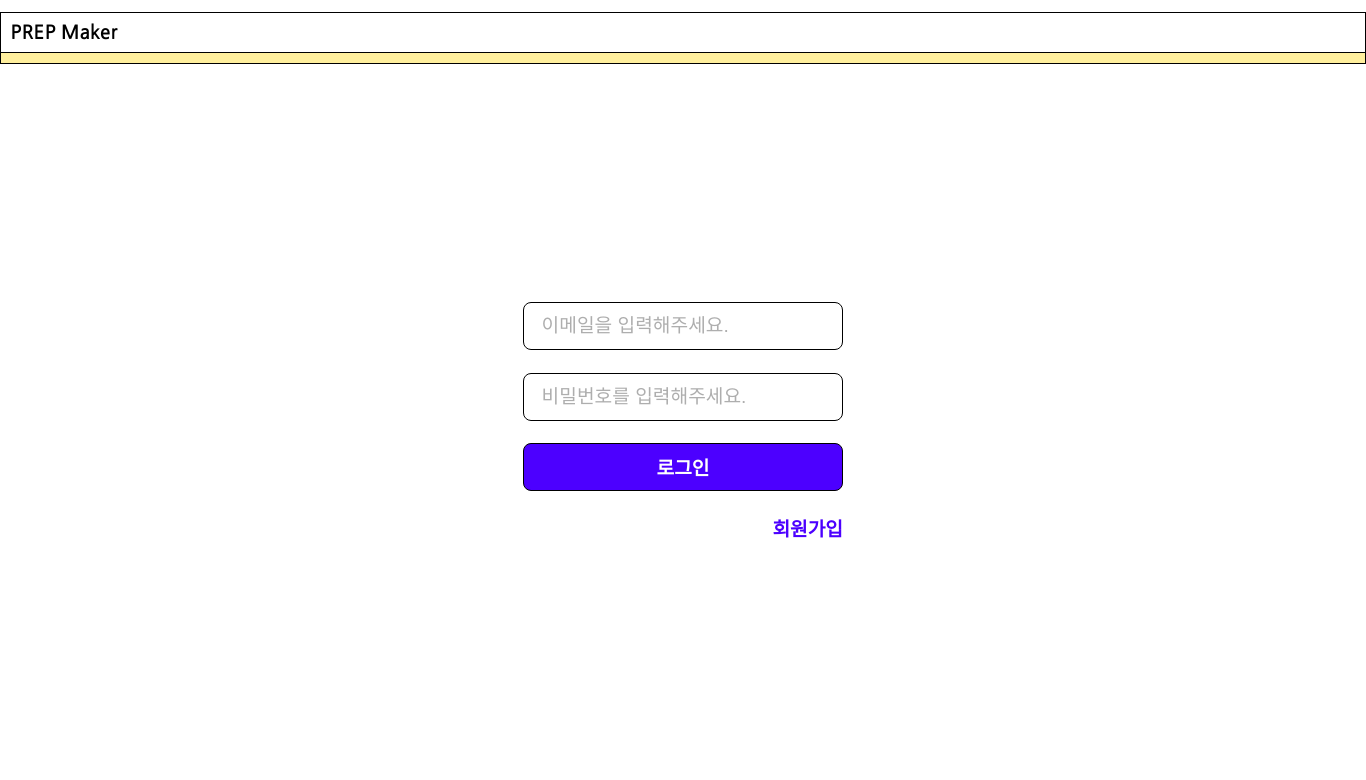
Test: App › Writing Page › 글 제목을 클릭했을 때 › 블록 에디터를 보여준다
In the field with placeholder "이메일을 입력해주세요.": (683, 326) x1=532 y1=311 x2=834 y2=341, type "hyemin@email.com"
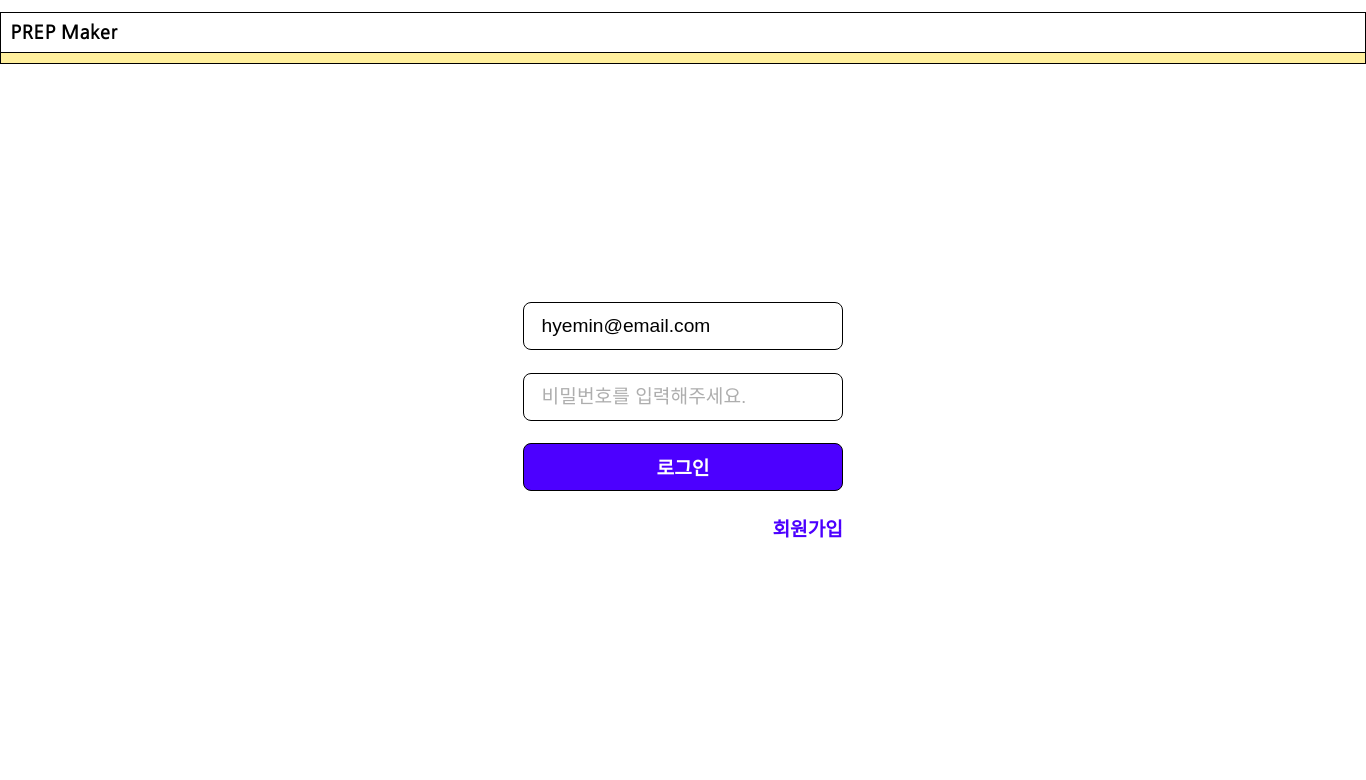
In the password field with placeholder "비밀번호를 입력해주세요.": (683, 397) x1=532 y1=382 x2=834 y2=412, type "password123"
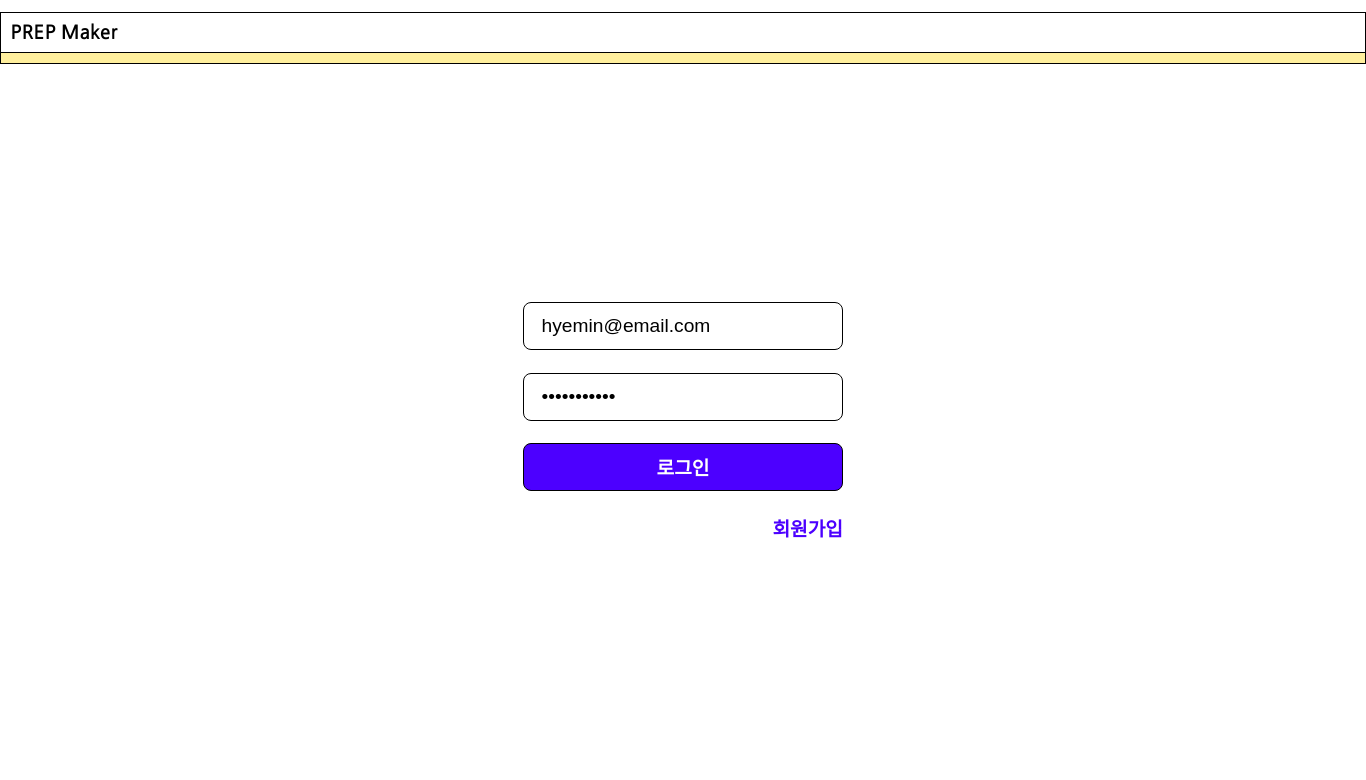
Click the button "로그인": (683, 467) x1=523 y1=443 x2=843 y2=491
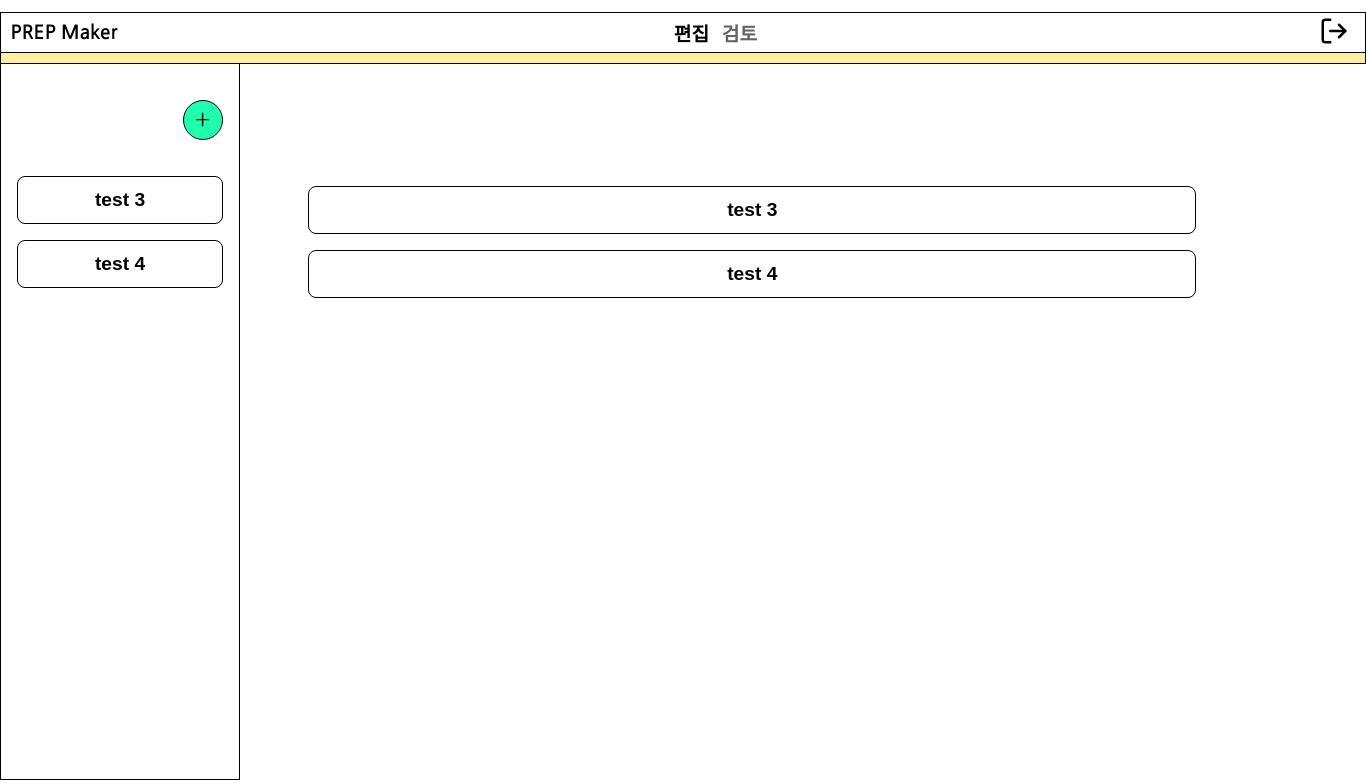
Click the button titled "add writing": (203, 120) x1=183 y1=100 x2=223 y2=140
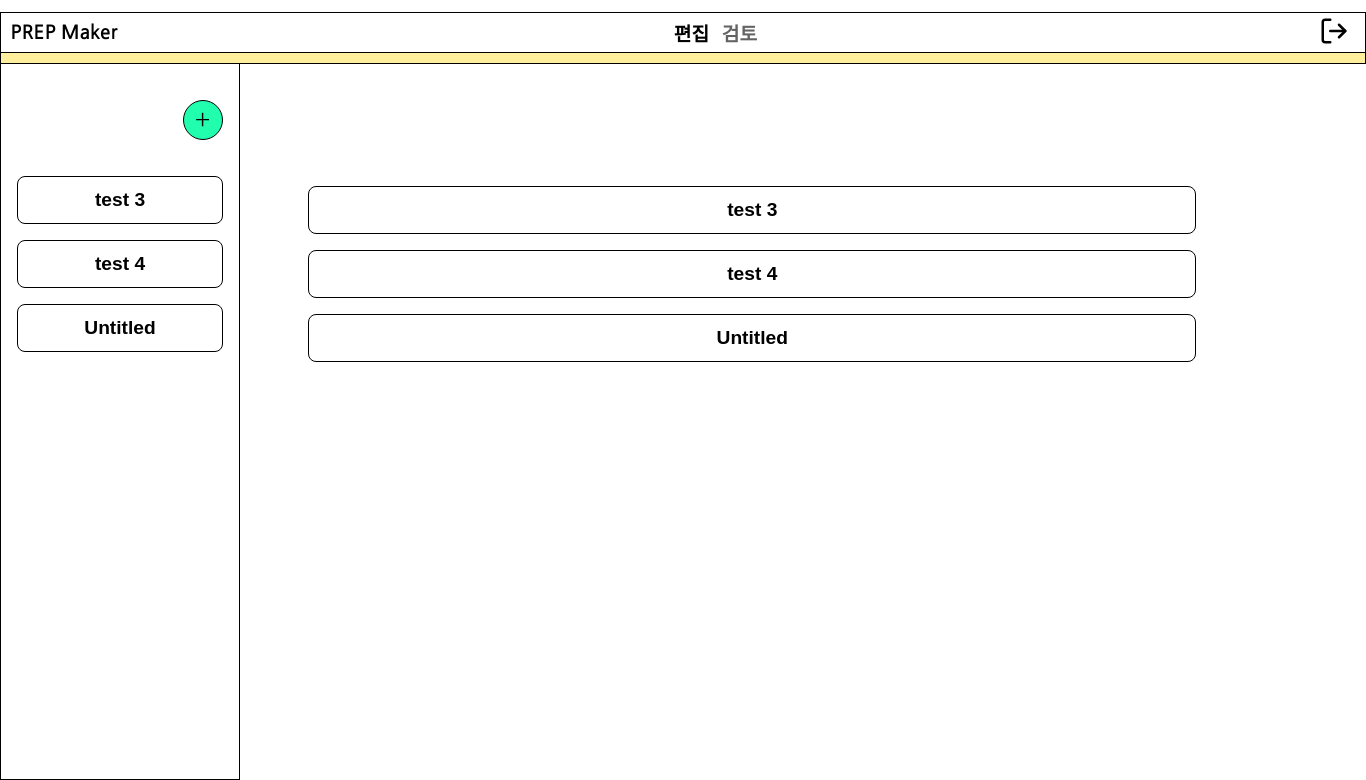
Click the 1st button "Untitled": (120, 328) x1=17 y1=304 x2=223 y2=352
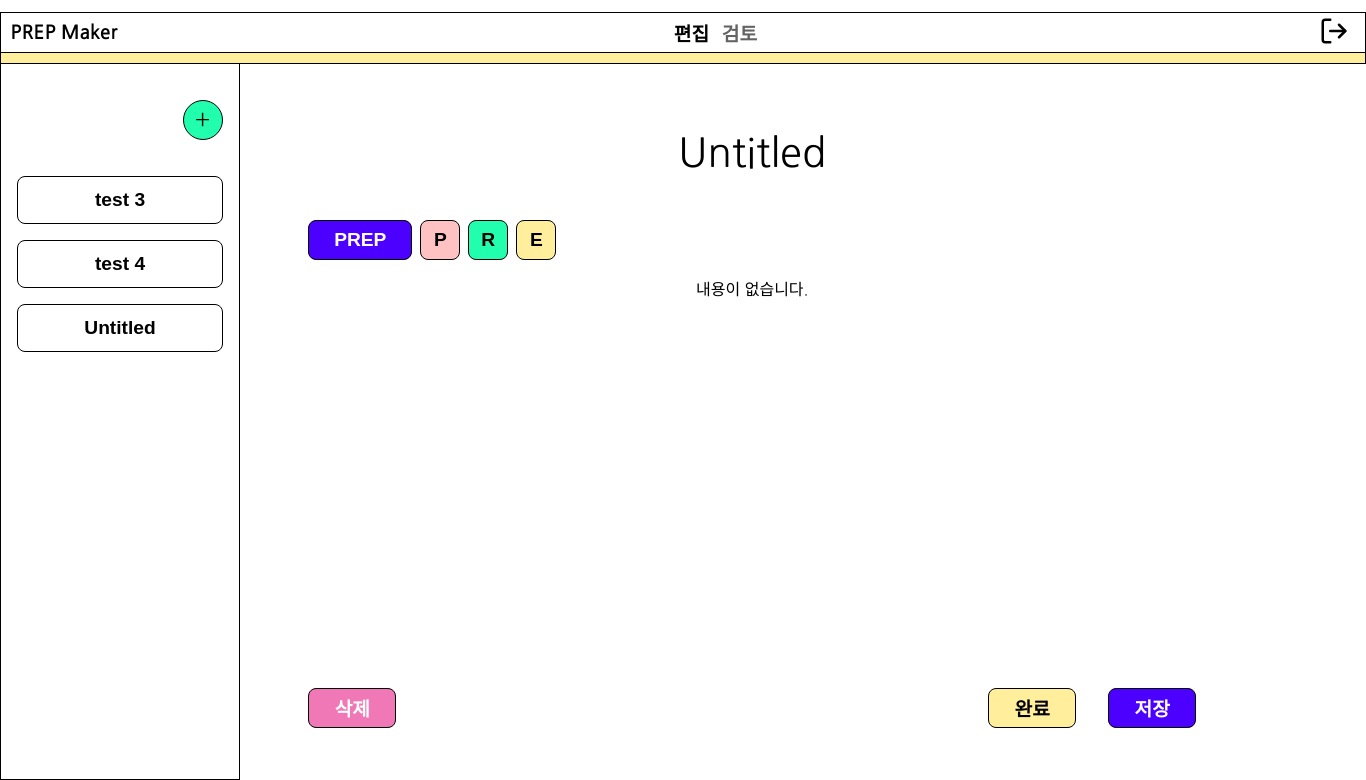
expect the header with test id "block-editor-header" is shown: met, box x1=308 y1=220 x2=556 y2=260
